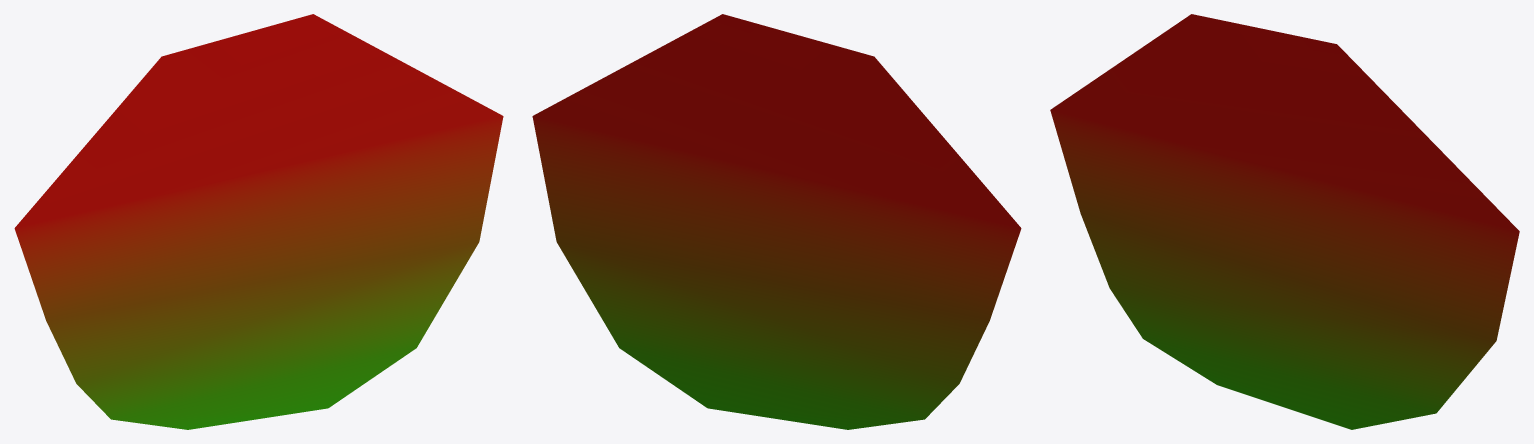
The model's file is Var8_LOD7.fbx.
3 renders of one model, left to right at view 1: azimuth 30°, elevation 25°; view 2: azimuth 150°, elevation 25°; view 3: azimuth 330°, elevation 25°, orthographic. The views are drawn at different scales.
Visible parts, largest first — view 1: _v835_Var8_LOD7; view 2: _v835_Var8_LOD7; view 3: _v835_Var8_LOD7.
Part boxes in pixels (x1,y1,x2,y2): _v835_Var8_LOD7: (14,14,503,429); _v835_Var8_LOD7: (532,14,1021,429); _v835_Var8_LOD7: (1050,14,1519,429).
Size of the model in its own units: 39.41 by 30.65 by 8.11e-07.
